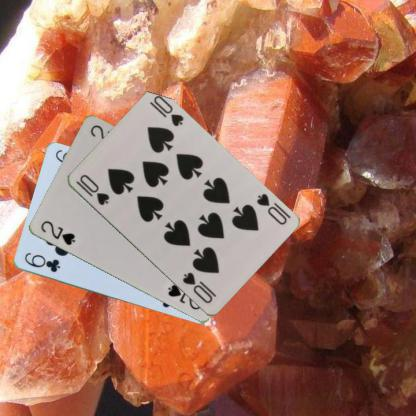10s: (254, 191, 288, 226), (76, 172, 110, 206)
2s: (37, 218, 77, 247)
6c: (22, 249, 62, 274)
